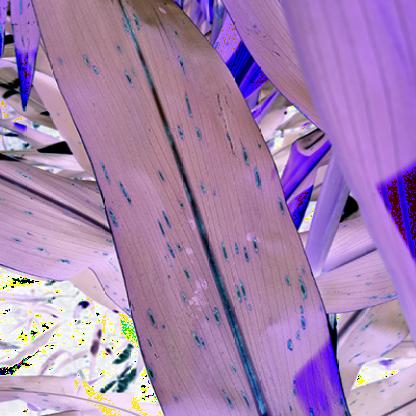corn gray leaf spot: (12, 1, 360, 413)
